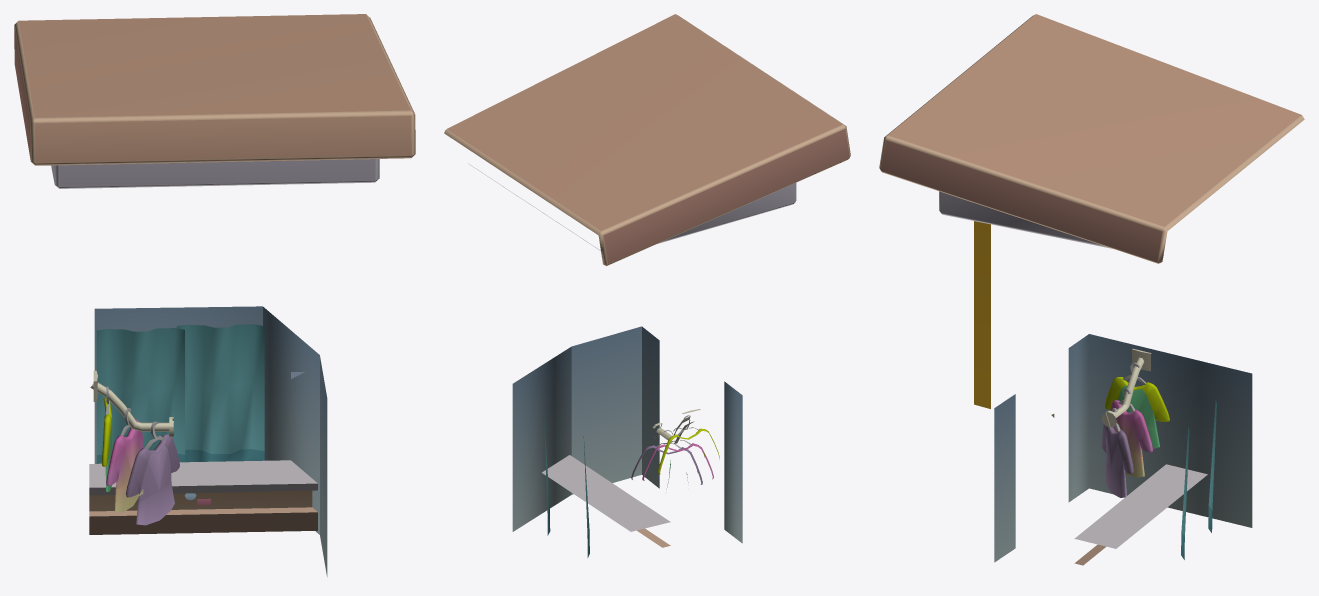
The model's file is CarsDisneyStore.glb.
The picture shows the model from 3 angles, left to right: view 1: azimuth 30°, elevation 25°; view 2: azimuth 150°, elevation 25°; view 3: azimuth 270°, elevation 25°; orthographic projection. The views are drawn at different scales.
Visible parts, largest first — view 1: CarsDisneyStore; view 2: CarsDisneyStore; view 3: CarsDisneyStore.
Part boxes in pixels (x1,y1,x2,y2): CarsDisneyStore: [14, 14, 415, 576]; CarsDisneyStore: [444, 14, 850, 557]; CarsDisneyStore: [879, 14, 1304, 565].
Size of the model in its own units: 4.53 by 5.29 by 4.68.
